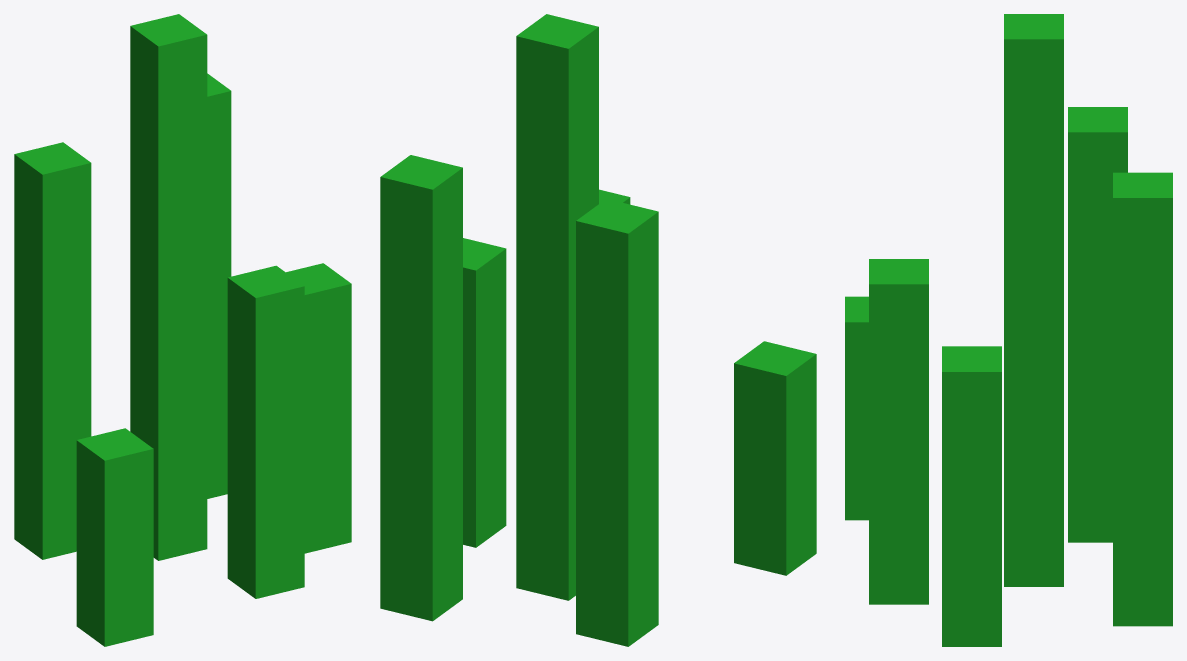
File: seaweed.fbx
The picture shows the model from 3 angles, left to right: view 1: azimuth 30°, elevation 25°; view 2: azimuth 150°, elevation 25°; view 3: azimuth 270°, elevation 25°; orthographic projection. The views are drawn at different scales.
Parts seen in each view (by area): view 1: seaWeed; view 2: seaWeed; view 3: seaWeed.
Boxes of the visible parts, x1,y1,x2,y2 form: seaWeed: (14, 14, 351, 646); seaWeed: (380, 14, 816, 646); seaWeed: (845, 14, 1172, 646).
Bounding box in the file's own units: 156 × 262 × 142.
